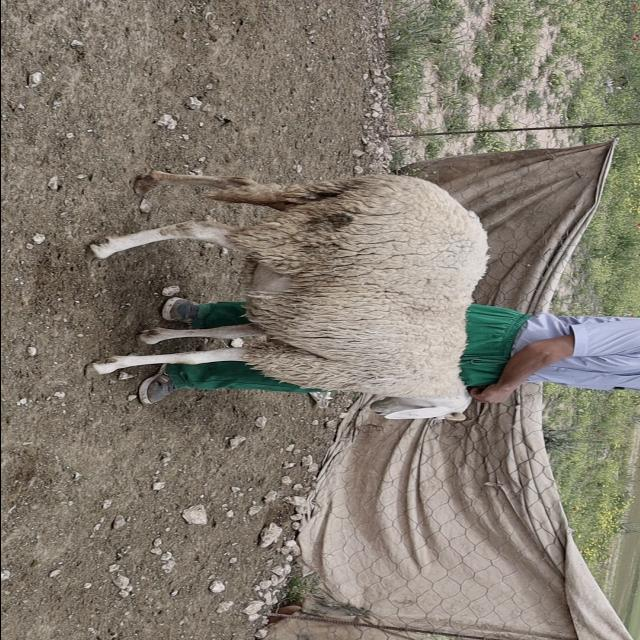Score_5: (86, 171, 487, 419)
